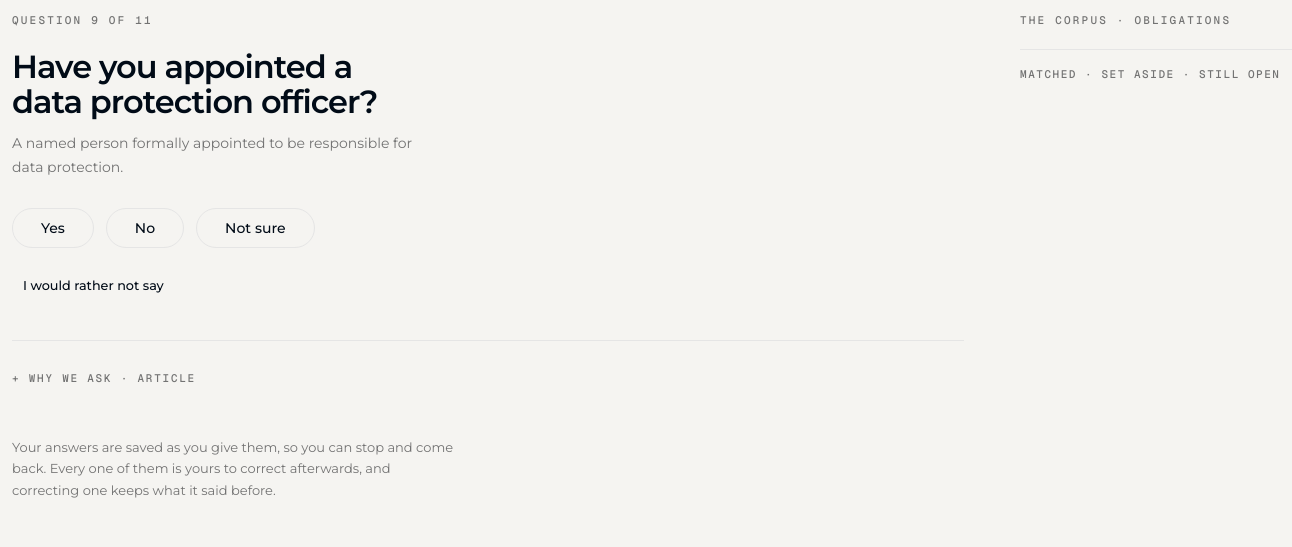
Test: Interview › shows the refusal core-api wrote, rather than something vaguer
What coordinates should you click on to do the following:
click the button "Yes"
I would click on:
 (53, 228)
Its box is [12,208,94,248].
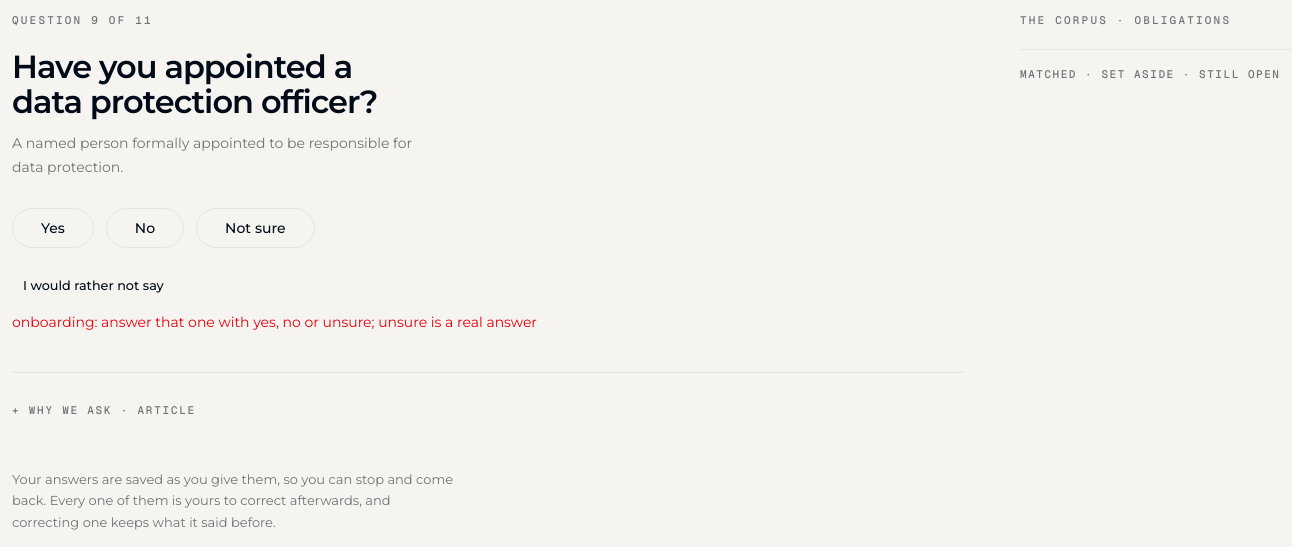
Check: the message shows "unsure is a real answer", box [12,313,537,331]
